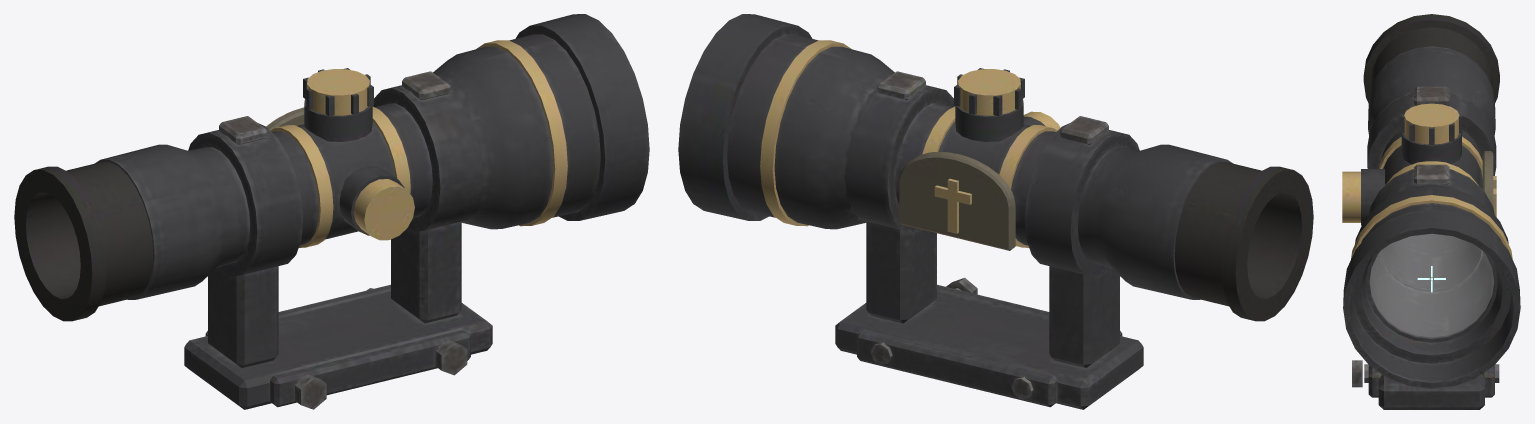
Rendered from gravesight.glb.
3 renders of one model, left to right at view 1: azimuth 30°, elevation 25°; view 2: azimuth 150°, elevation 25°; view 3: azimuth 270°, elevation 25°, orthographic. The views are drawn at different scales.
Visible parts, largest first — view 1: gravesight; view 2: gravesight; view 3: gravesight, Lens.
Boxes of the visible parts, x1,y1,x2,y2 form: gravesight: [14, 14, 649, 409]; gravesight: [678, 14, 1313, 409]; gravesight: [1342, 14, 1520, 409]; Lens: [1370, 234, 1493, 337].
Bounding box in the file's own units: 0.155 × 0.0755 × 0.0502.
Materials: 4 (1 with a texture image).
